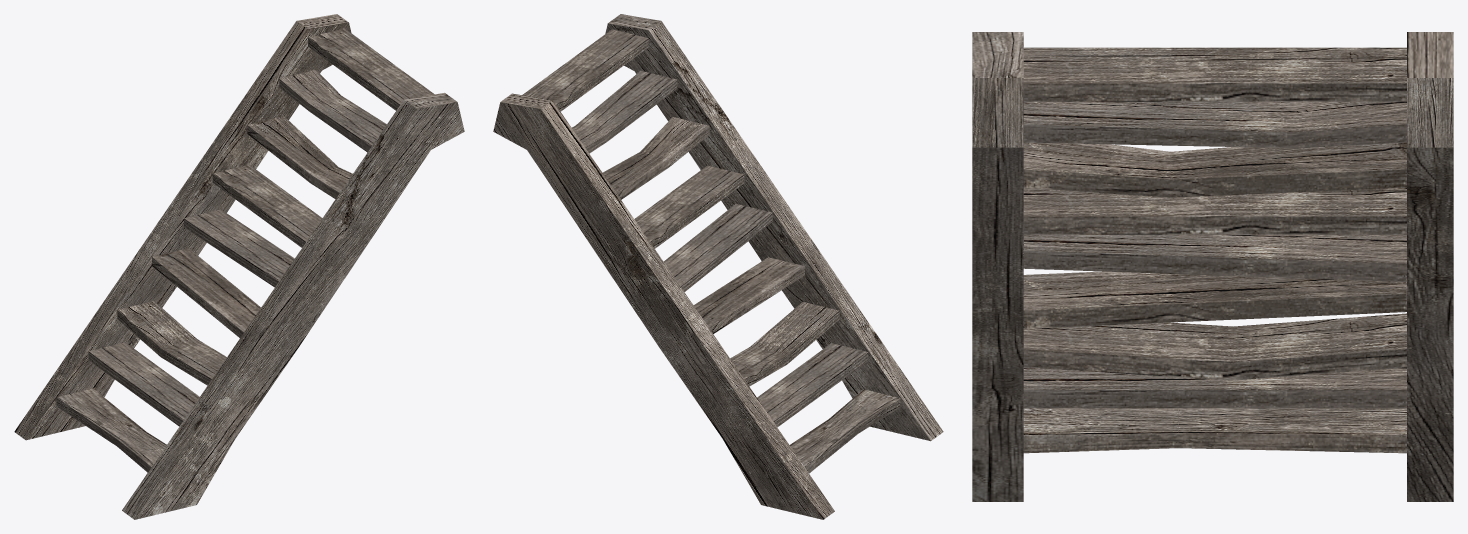
The model's file is WoodStairs3.fbx.
The picture shows the model from 3 angles, left to right: view 1: azimuth 30°, elevation 25°; view 2: azimuth 150°, elevation 25°; view 3: azimuth 270°, elevation 25°; orthographic projection. The views are drawn at different scales.
Visible parts, largest first — view 1: polySurface3021; view 2: polySurface3021; view 3: polySurface3021.
Boxes of the visible parts, x1,y1,x2,y2 form: polySurface3021: (14, 14, 464, 519); polySurface3021: (493, 14, 943, 519); polySurface3021: (972, 32, 1453, 501).
Size of the model in its own units: 2.54 by 2.51 by 1.6.
